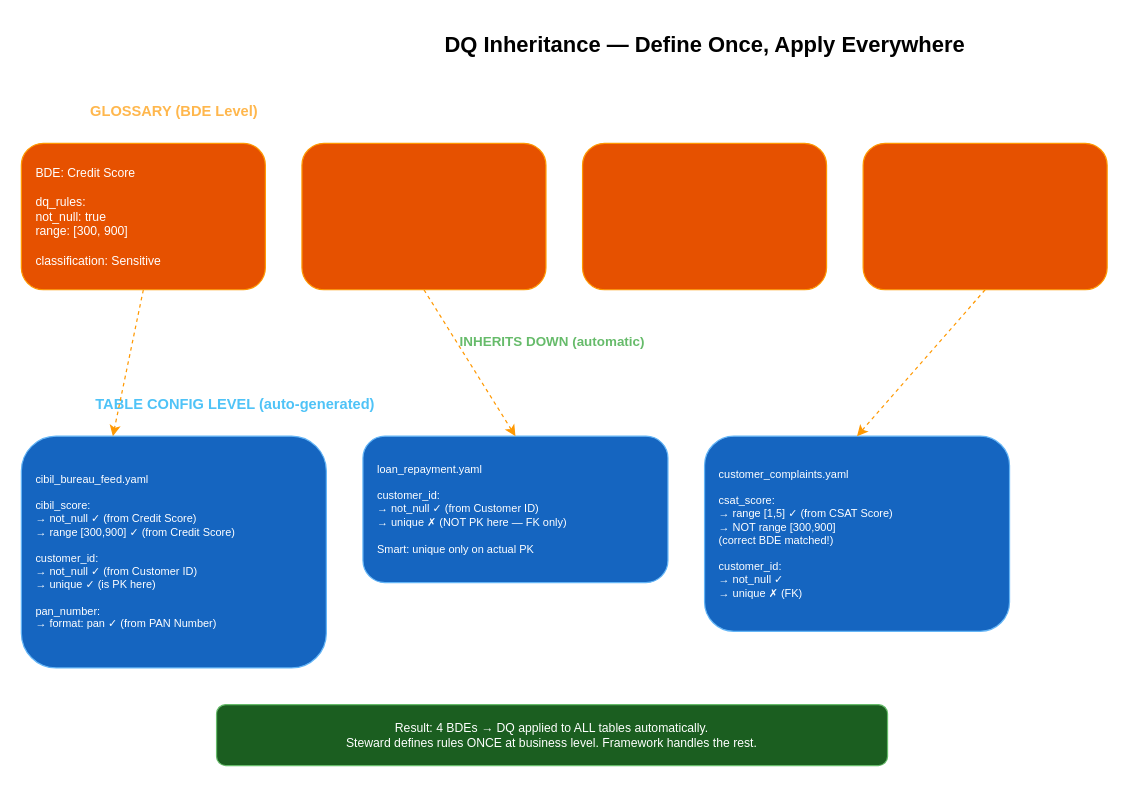
Image size: 1129x787. Some labels were removed from this diagram. The shapes that lost their labels are listed below. From the top down, each one's centre as x and y in pixels, then its label:
At (x=423, y=216): "BDE: Customer ID dq_rules: not_null: true unique: true is_key_candidate: true".
At (x=704, y=216): "BDE: PAN Number dq_rules: format: pan classification: PII is_pii: true".
At (x=984, y=216): "BDE: CSAT Score dq_rules: range: [1, 5]".
